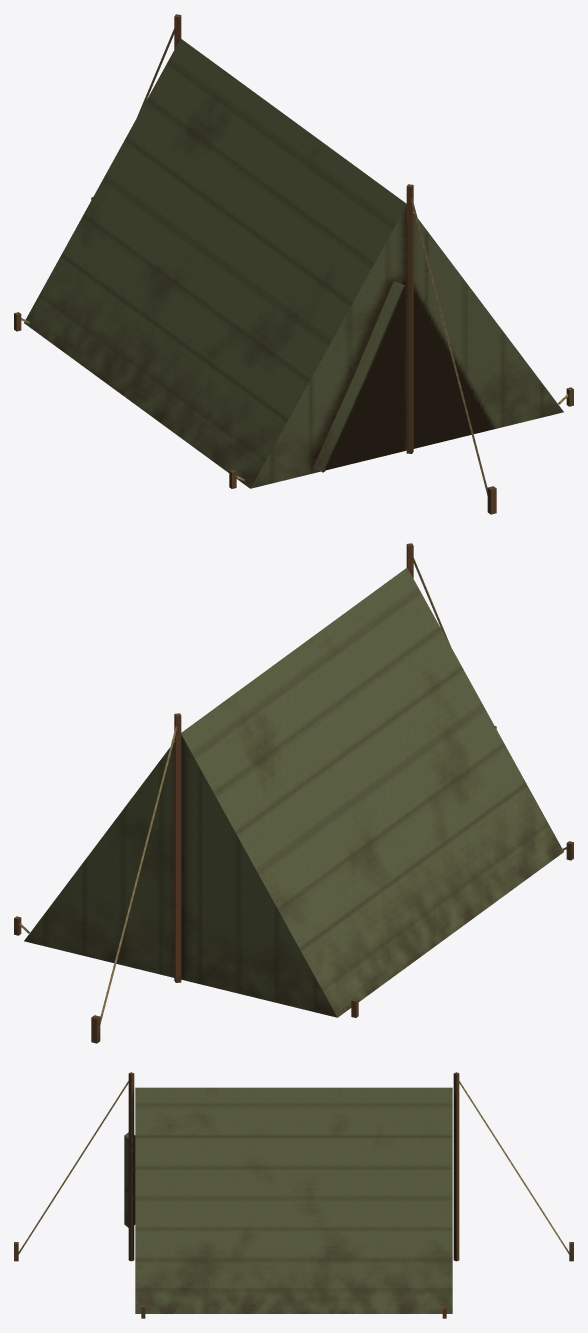
Rendered from Tent_01.obj.
3 views of the same model, one above another, from view 1: azimuth 30°, elevation 25°; view 2: azimuth 150°, elevation 25°; view 3: azimuth 270°, elevation 25° (orthographic). The views are drawn at different scales.
Parts seen in each view (by area): view 1: Tent_01; view 2: Tent_01; view 3: Tent_01.
Boxes of the visible parts, x1,y1,x2,y2 form: Tent_01: (14,14,573,514); Tent_01: (14,543,573,1043); Tent_01: (14,1072,573,1318).
Bounding box in the file's own units: 1.74 × 1.3 × 3.53.
Materials: 1 (1 with a texture image).
